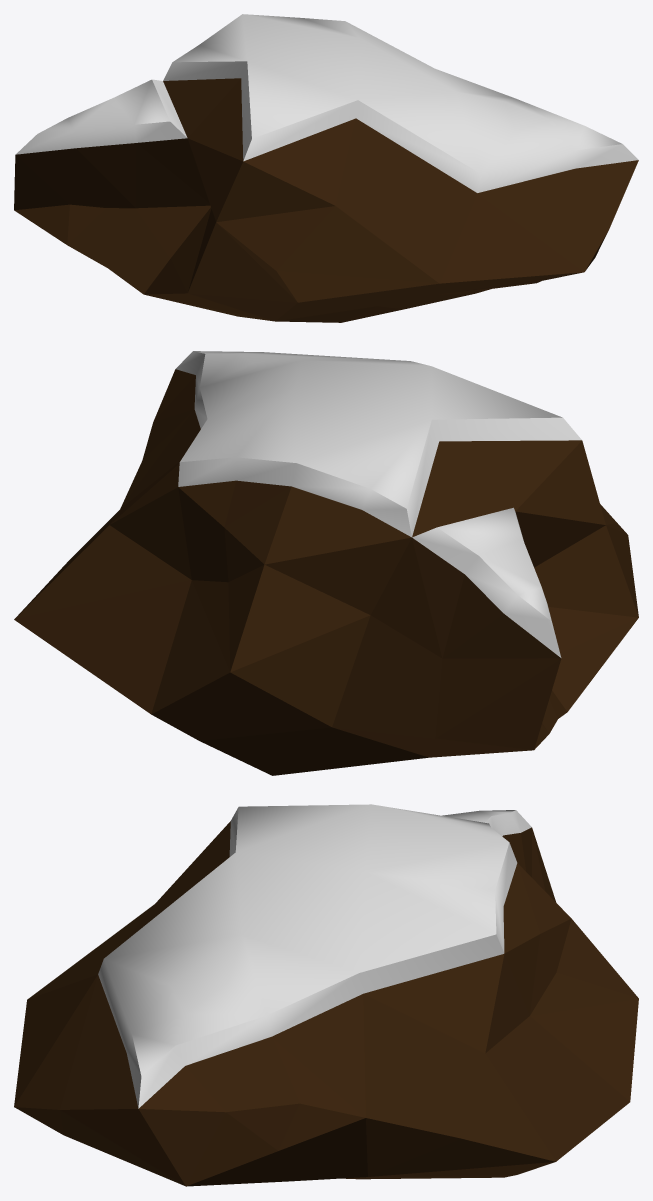
The model's file is rock4.fbx.
3 renders of one model, top to bottom at view 1: azimuth 30°, elevation 25°; view 2: azimuth 150°, elevation 25°; view 3: azimuth 270°, elevation 25°, orthographic. The views are drawn at different scales.
Visible parts, largest first — view 1: merge6; view 2: merge6; view 3: merge6.
Part boxes in pixels (x1,y1,x2,y2): merge6: (14, 14, 638, 322); merge6: (14, 351, 638, 775); merge6: (14, 804, 638, 1186).
Bounding box in the file's own units: 4.22 × 2.18 × 3.99.
